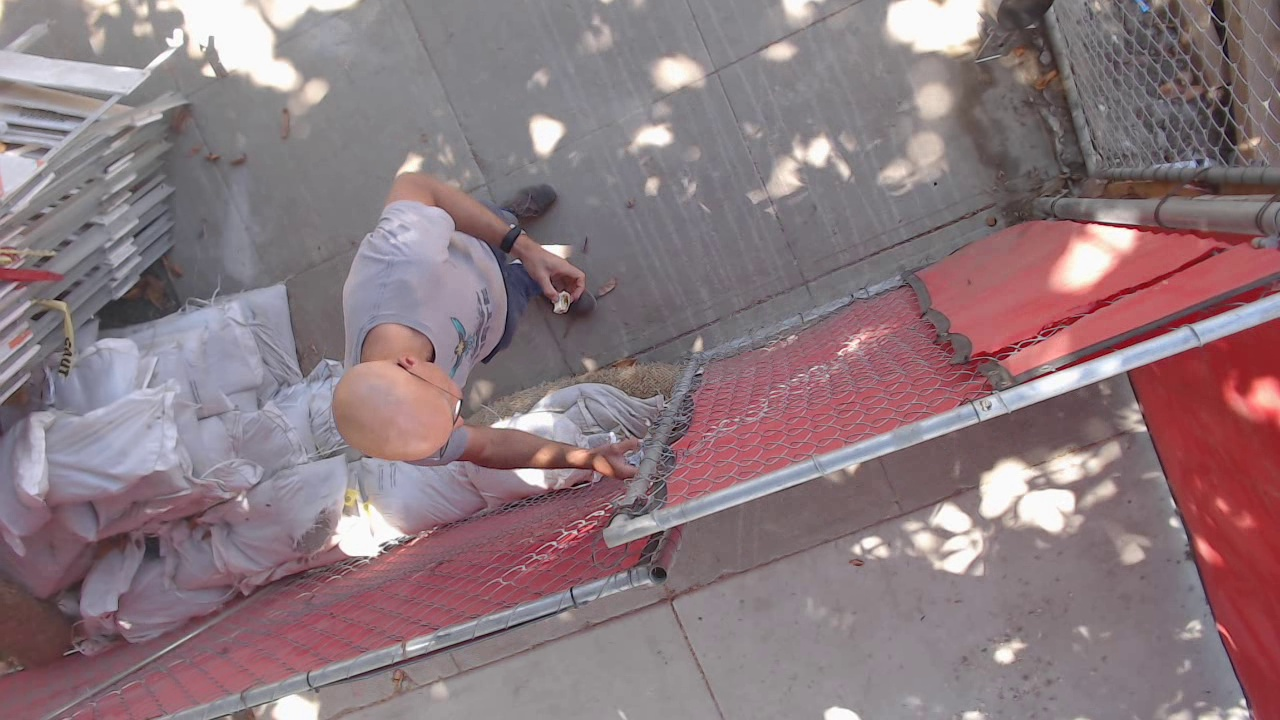person: (335, 165, 633, 481)
